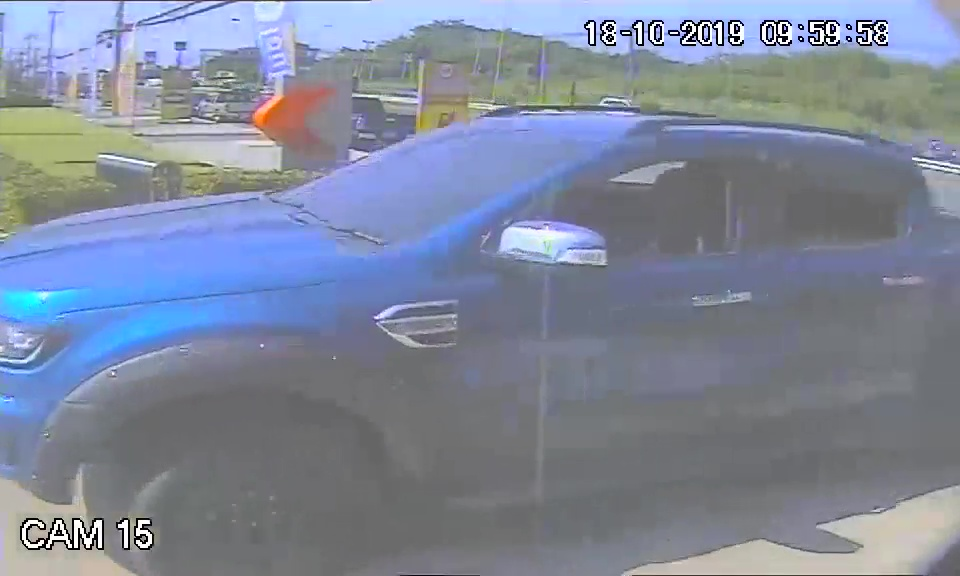pickup: (4, 107, 931, 512)
